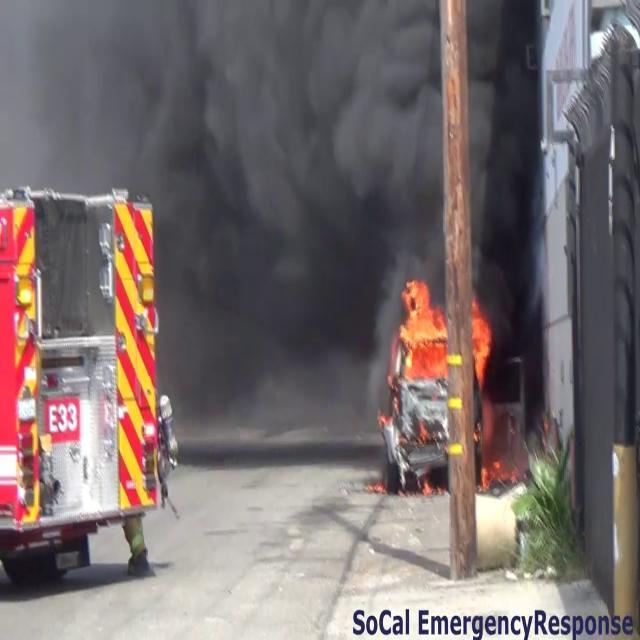Fire: (394, 275, 451, 377), (470, 302, 492, 391)
Smoke: (0, 0, 442, 342), (465, 2, 555, 416)
